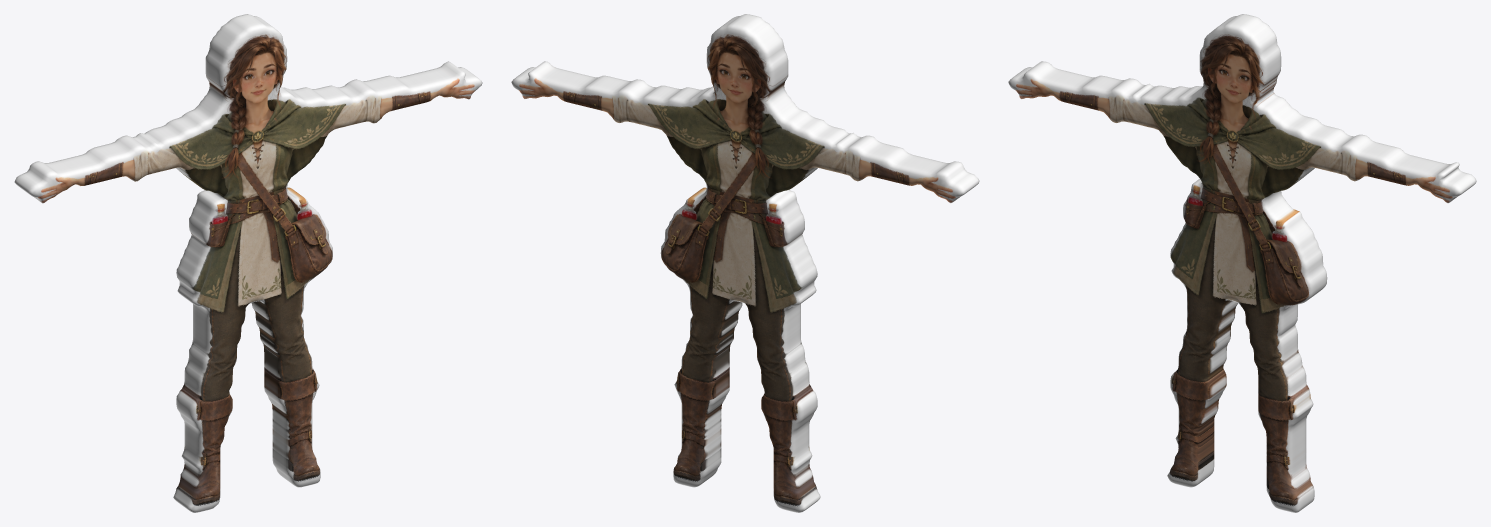
The picture shows the model from 3 angles, left to right: view 1: azimuth 30°, elevation 25°; view 2: azimuth 150°, elevation 25°; view 3: azimuth 330°, elevation 25°; orthographic projection.
Parts seen in each view (by area): view 1: source_textured_cutout; view 2: source_textured_cutout; view 3: source_textured_cutout.
Part boxes in pixels (bbox=[...]): source_textured_cutout: bbox=[14, 14, 482, 512]; source_textured_cutout: bbox=[511, 14, 979, 512]; source_textured_cutout: bbox=[1008, 14, 1476, 512].
Size of the model in its own units: 1.65 by 1.64 by 0.12.
1 material, 1 textured.
